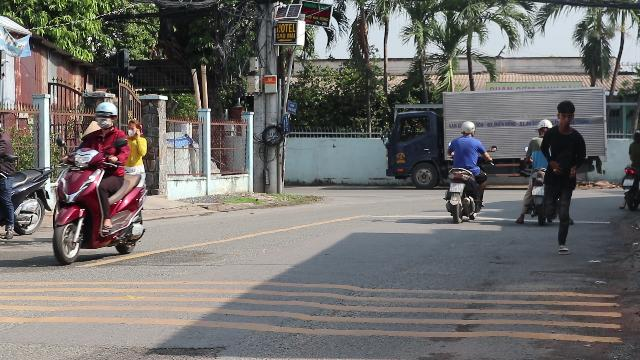helmet: (93, 100, 117, 127)
motorcyclist: (48, 100, 152, 264)
